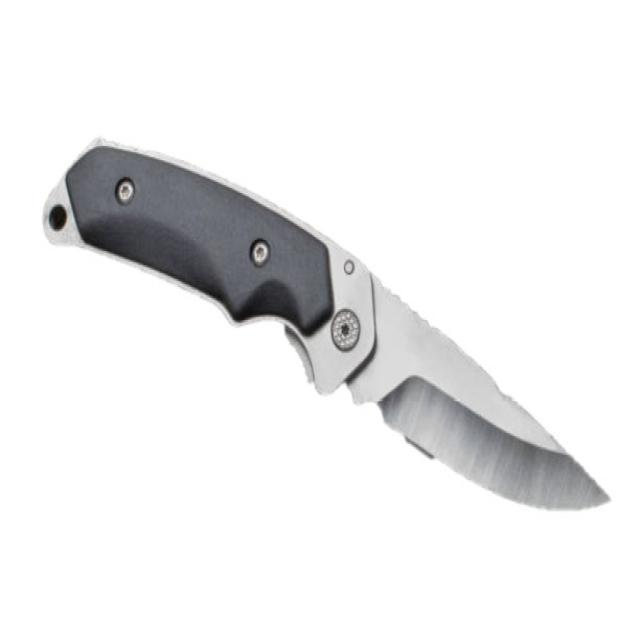knife: (41, 116, 620, 525)
